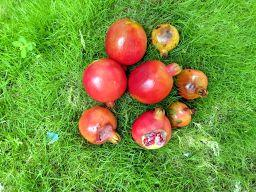pomegranate: (128, 59, 183, 105), (104, 18, 148, 70), (81, 59, 128, 106), (130, 108, 172, 149), (78, 106, 121, 146), (176, 68, 208, 100), (151, 23, 179, 58), (168, 102, 195, 128)
